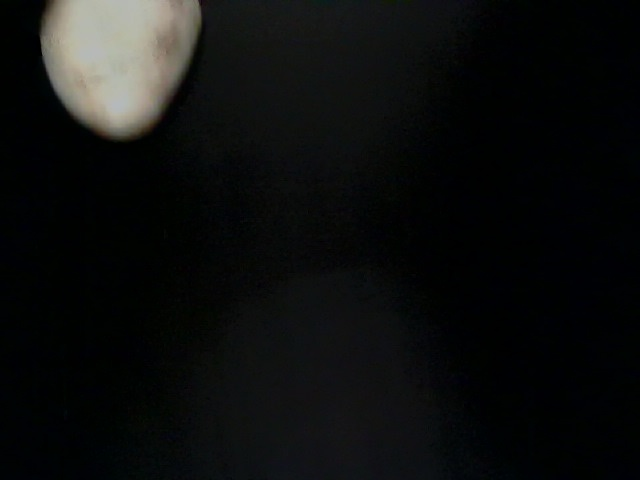QTLJ: (32, 1, 203, 258)
